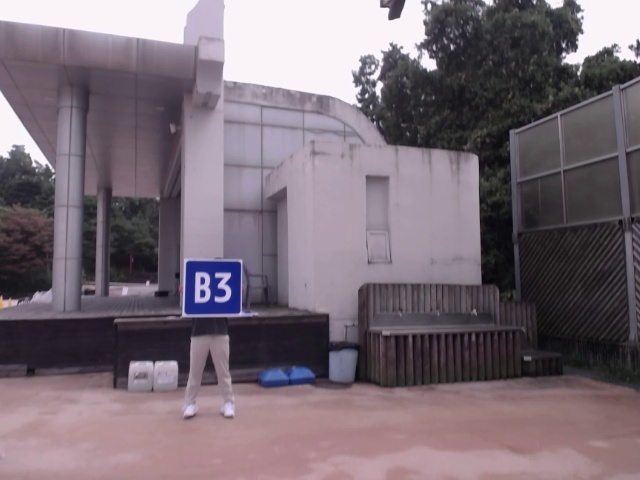delivery_b3: (185, 259, 243, 315)
